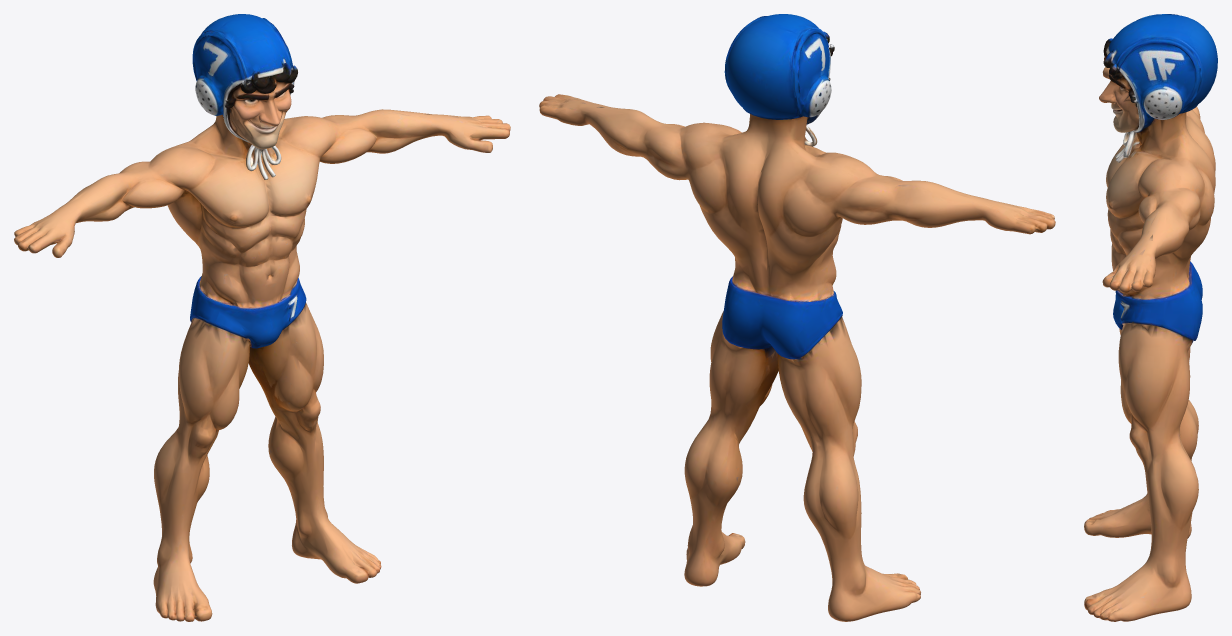
Rendered from player_base_LOD1.glb.
The picture shows the model from 3 angles, left to right: view 1: azimuth 30°, elevation 25°; view 2: azimuth 150°, elevation 25°; view 3: azimuth 270°, elevation 25°; orthographic projection. The views are drawn at different scales.
Visible parts, largest first — view 1: player_base_LOD1; view 2: player_base_LOD1; view 3: player_base_LOD1.
Boxes of the visible parts, <box> form: player_base_LOD1: <box>14,14,510,621</box>; player_base_LOD1: <box>539,14,1055,621</box>; player_base_LOD1: <box>1084,14,1217,621</box>.
Size of the model in its own units: 1.67 by 1.8 by 0.3953.
1 material, 1 textured.
